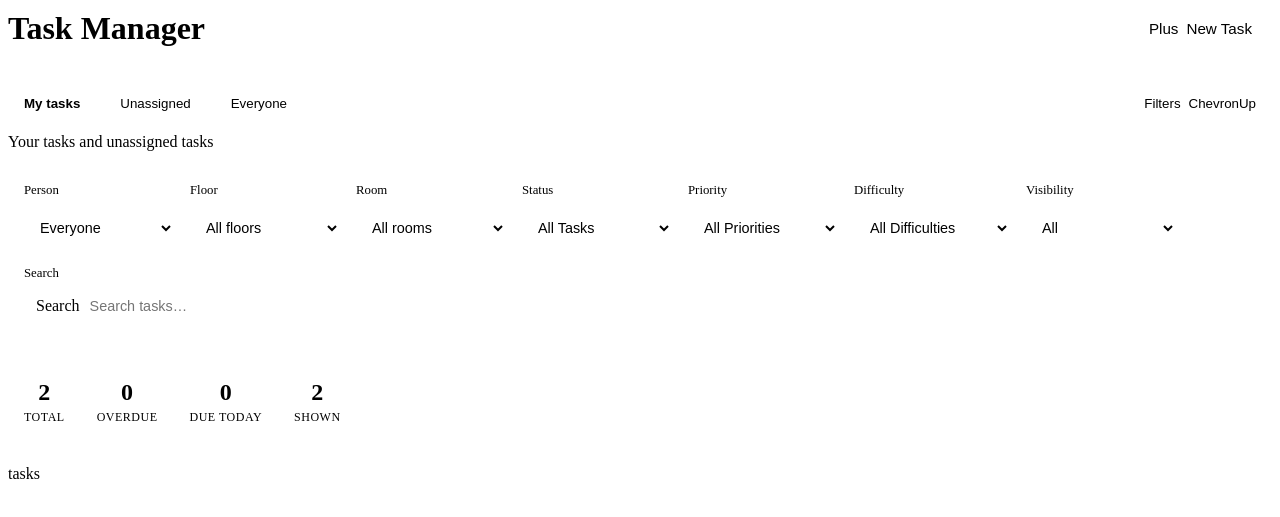
Test: TaskManager › prefills the create form from a floor-only filter
Select "Ground Floor" in the dropdown with test id "floor-filter" at (265, 228), box x1=190 y1=206 x2=340 y2=250
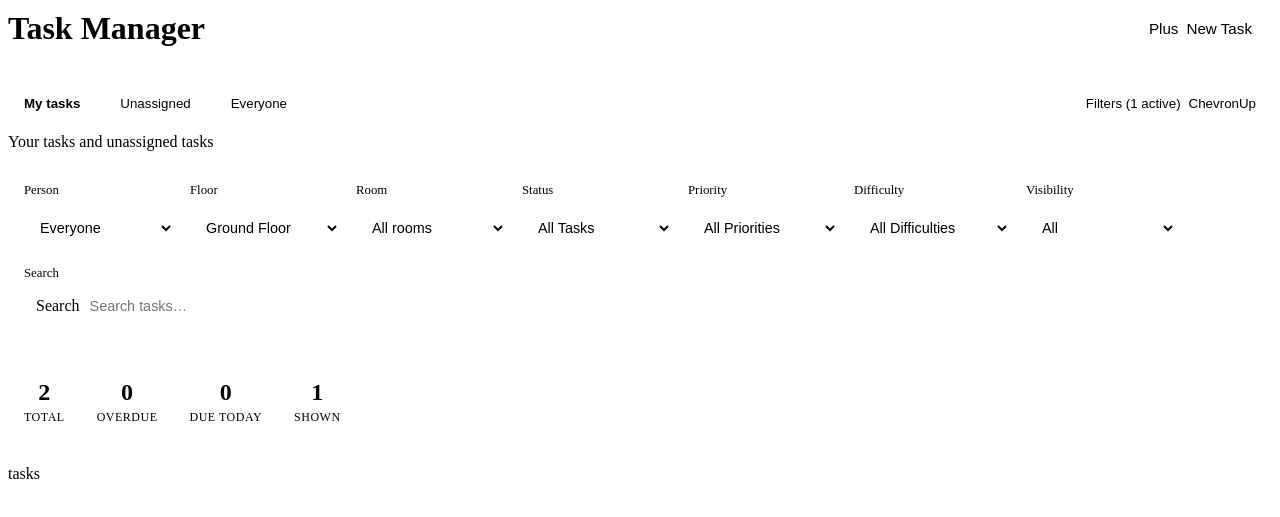
Click the button with test id "add-task-button" at (1200, 28), box x1=1129 y1=8 x2=1272 y2=49
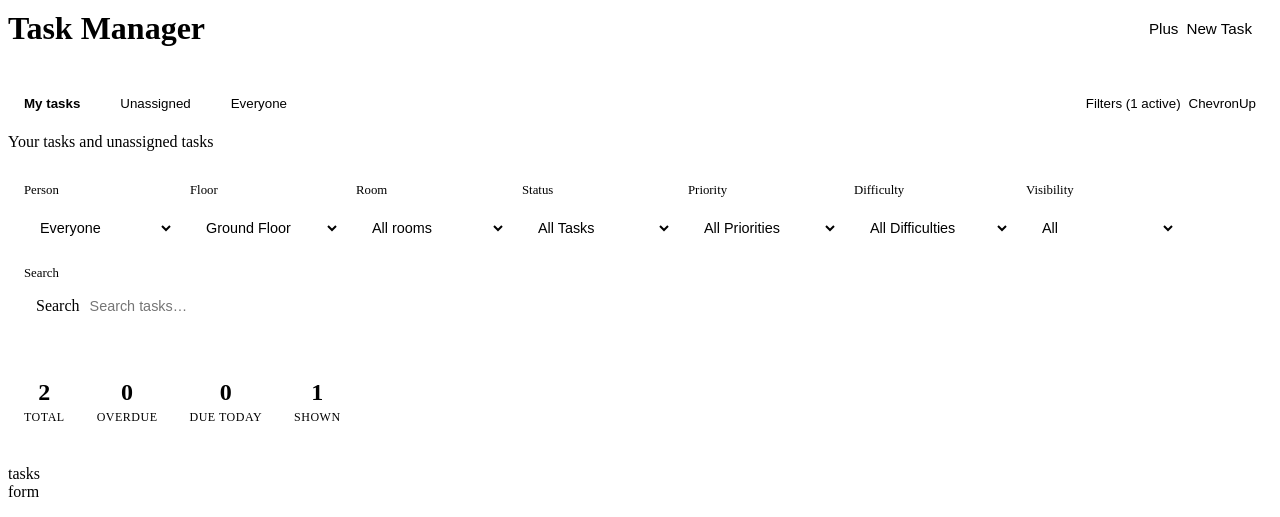
Now the text "form" is shown, box x1=8 y1=483 x2=39 y2=500
